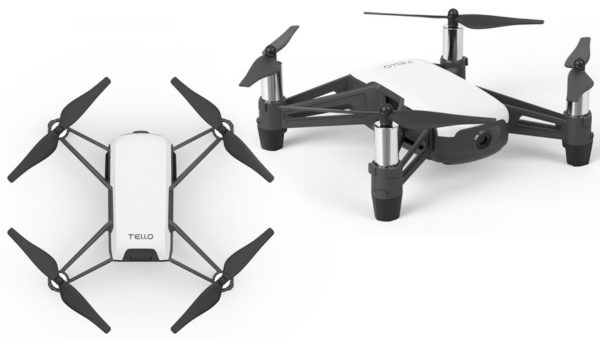drone: (238, 5, 600, 225), (5, 77, 277, 336)
